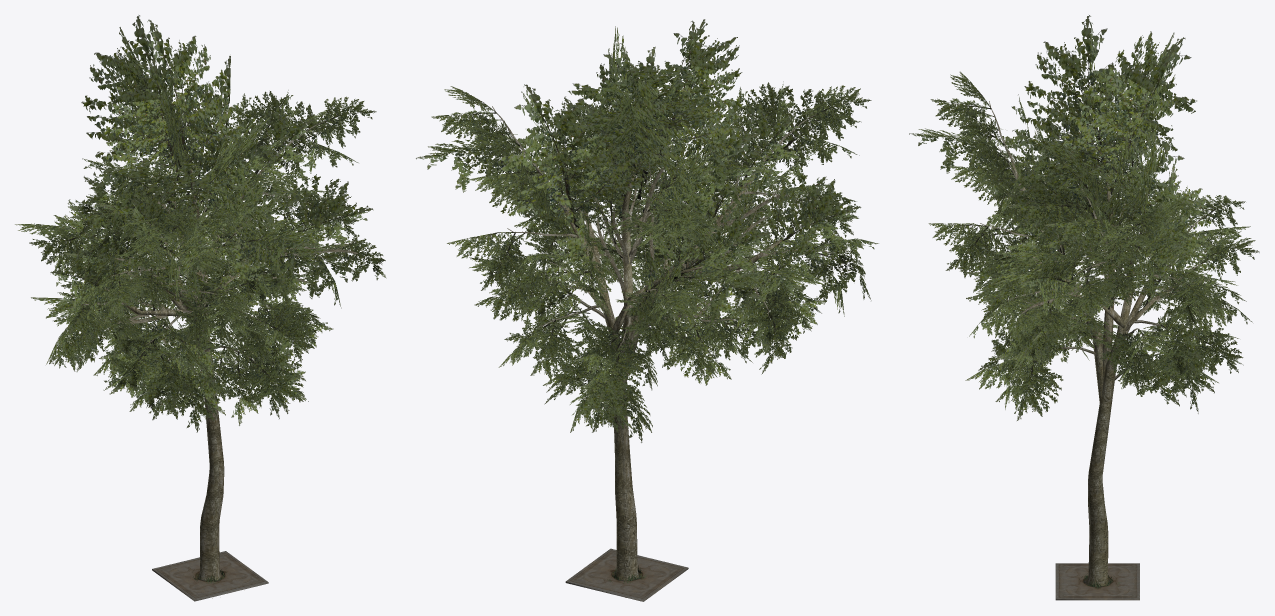
Rendered from TreeLarge_Static.FBX.
3 renders of one model, left to right at view 1: azimuth 30°, elevation 25°; view 2: azimuth 150°, elevation 25°; view 3: azimuth 270°, elevation 25°, orthographic. The views are drawn at different scales.
Parts seen in each view (by area): view 1: Tree_Trunk, Tree_Grate; view 2: Tree_Trunk, Tree_Grate; view 3: Tree_Trunk, Tree_Grate.
Part boxes in pixels (left/top/right/bottom): Tree_Trunk: left=15, top=15, right=386, bottom=581; Tree_Grate: left=152, top=551, right=268, bottom=601; Tree_Trunk: left=416, top=19, right=878, bottom=580; Tree_Grate: left=565, top=548, right=688, bottom=601; Tree_Trunk: left=909, top=15, right=1259, bottom=586; Tree_Grate: left=1055, top=563, right=1139, bottom=600.
Size of the model in its own units: 824 by 1179 by 697.
